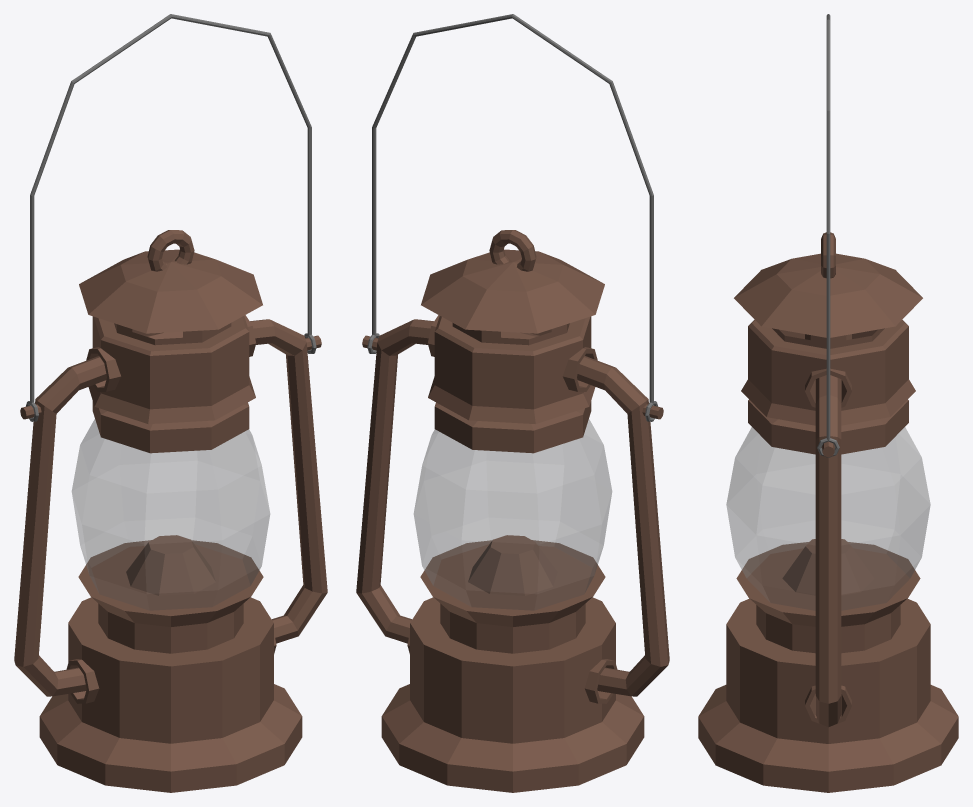
Rendered from lantern 1.fbx.
The picture shows the model from 3 angles, left to right: view 1: azimuth 30°, elevation 25°; view 2: azimuth 150°, elevation 25°; view 3: azimuth 270°, elevation 25°; orthographic projection.
Parts seen in each view (by area): view 1: pTorus6, pCylinder1, pTorus5; view 2: pTorus6, pCylinder1, pTorus5; view 3: pTorus6, pCylinder1, pTorus5.
Boxes of the visible parts, bbox=[...] form: pTorus6: bbox=[14, 230, 327, 792]; pCylinder1: bbox=[71, 419, 270, 610]; pTorus5: bbox=[26, 14, 316, 421]; pTorus6: bbox=[356, 230, 669, 792]; pCylinder1: bbox=[413, 419, 612, 610]; pTorus5: bbox=[367, 14, 657, 421]; pTorus6: bbox=[698, 232, 958, 792]; pCylinder1: bbox=[726, 427, 930, 610]; pTorus5: bbox=[817, 14, 839, 457].
Bounding box in the file's own units: 3.81 × 8.48 × 2.79.
